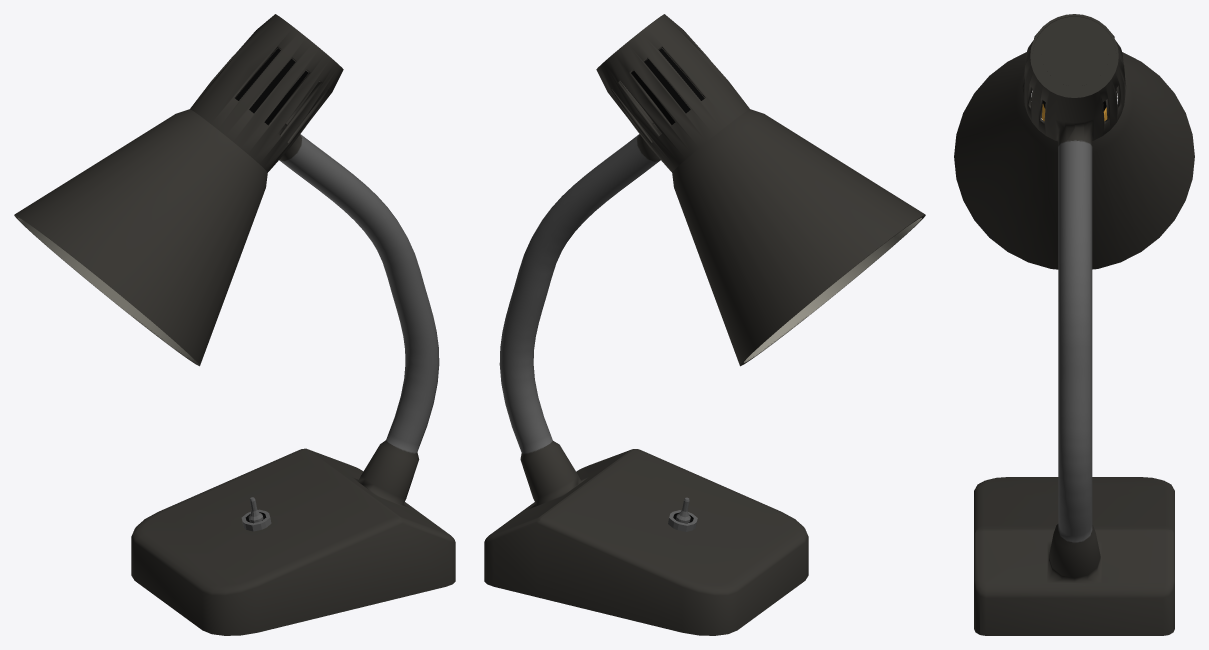
The model's file is DeskLamp.glb.
The picture shows the model from 3 angles, left to right: view 1: azimuth 30°, elevation 25°; view 2: azimuth 150°, elevation 25°; view 3: azimuth 270°, elevation 25°; orthographic projection.
Visible parts, largest first — view 1: Лампа; view 2: Лампа; view 3: Лампа.
Boxes of the visible parts, x1,y1,x2,y2 form: Лампа: [14, 14, 455, 635]; Лампа: [484, 14, 925, 635]; Лампа: [954, 14, 1194, 635].
Bounding box in the file's own units: 0.0256 × 0.034 × 0.0133.
1 material, 1 textured.
